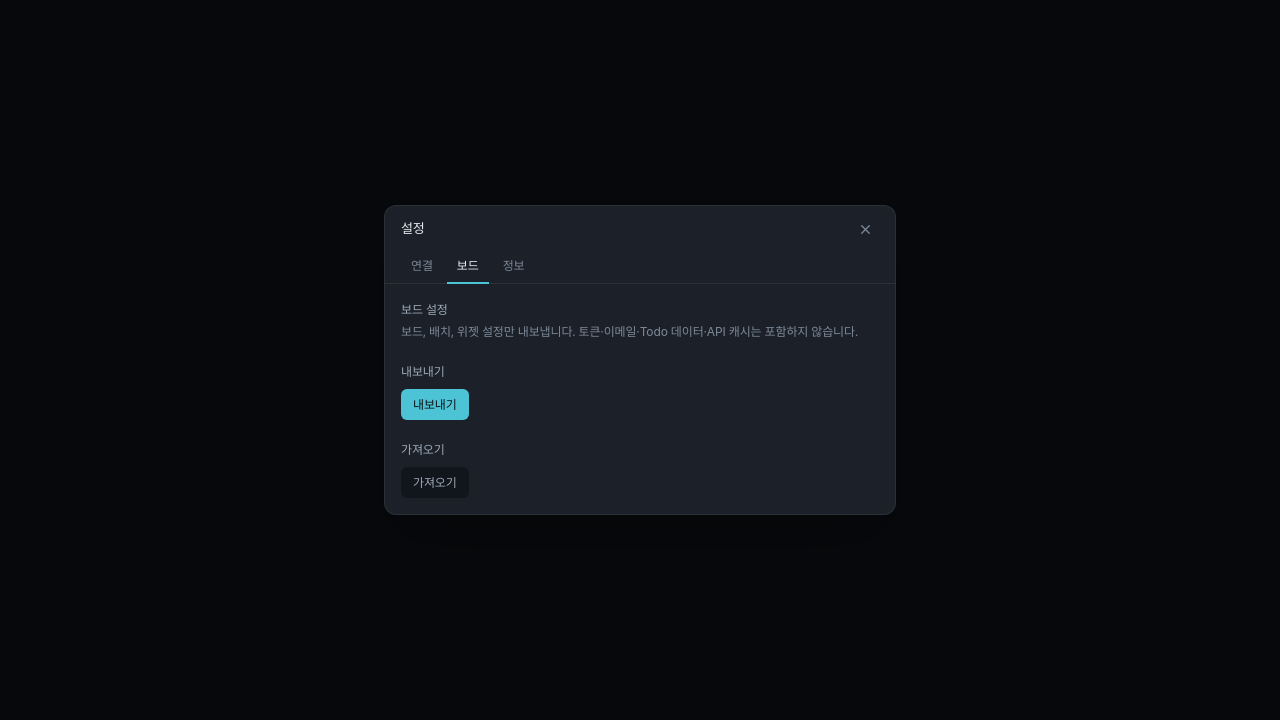
Test: SettingsModal board transfer › shows a flush error and does not export the board
Click the button "내보내기" at (435, 404), box [401,389,469,420]
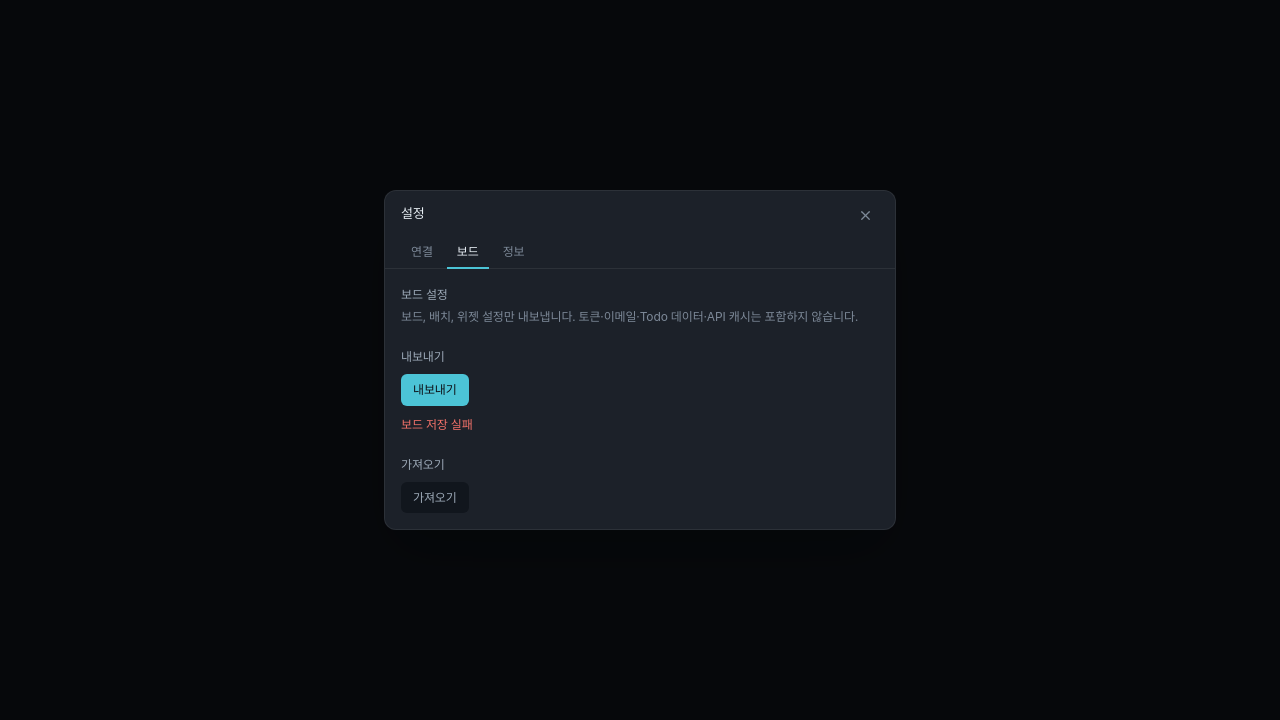
Now the text "보드 저장 실패" is shown, box [401,417,473,432]
